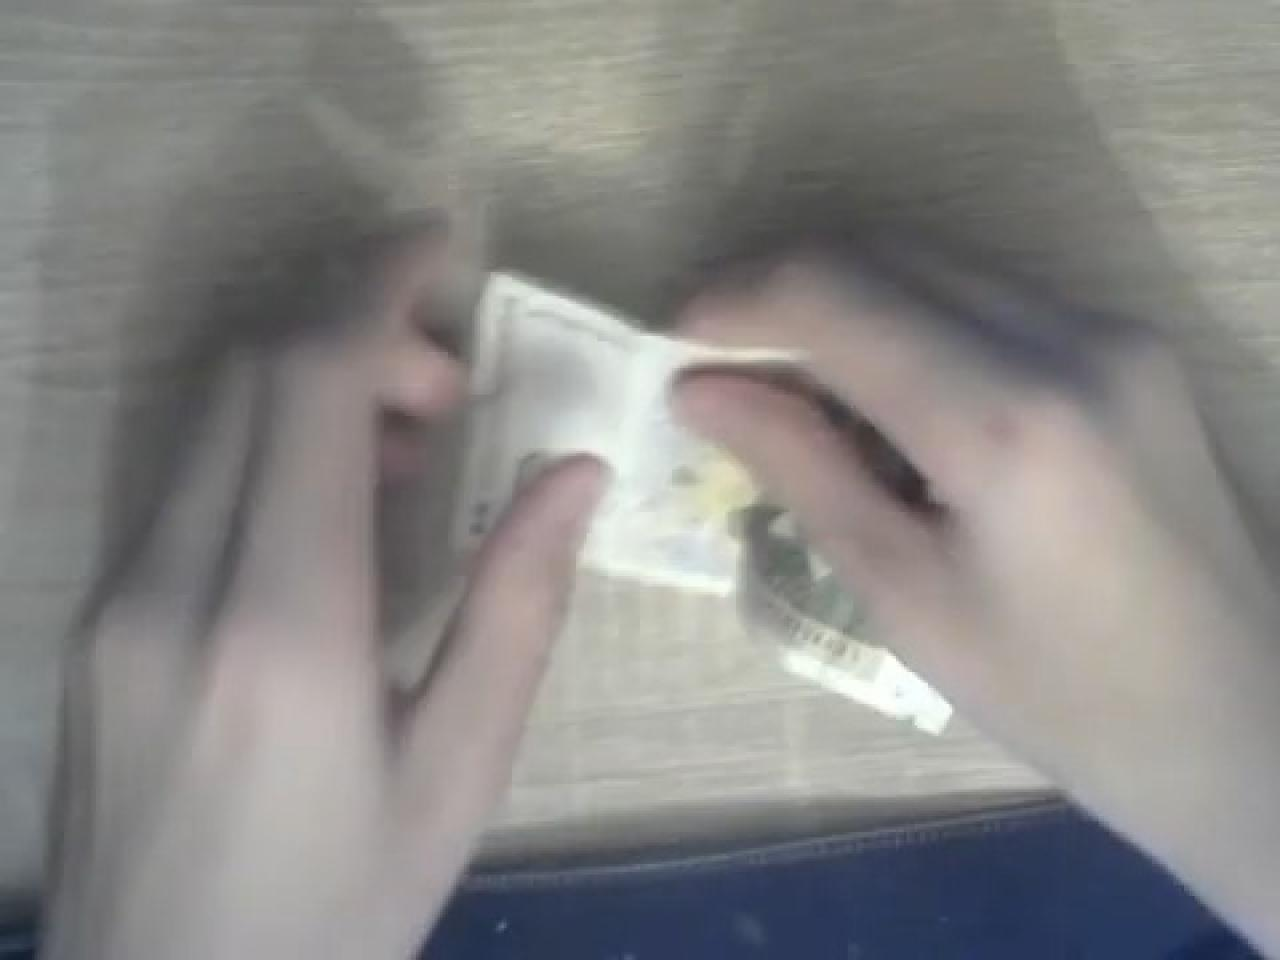10leva: (459, 266, 797, 592), (470, 269, 800, 592)
